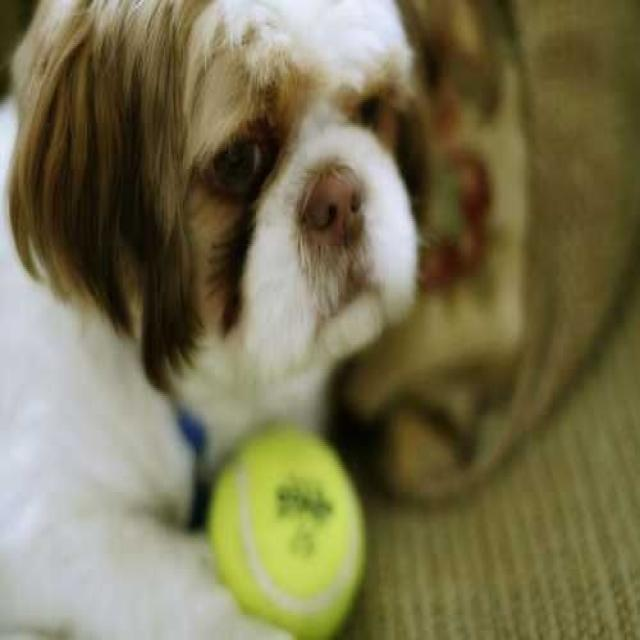Tennis_Ball: (215, 433, 369, 633)
